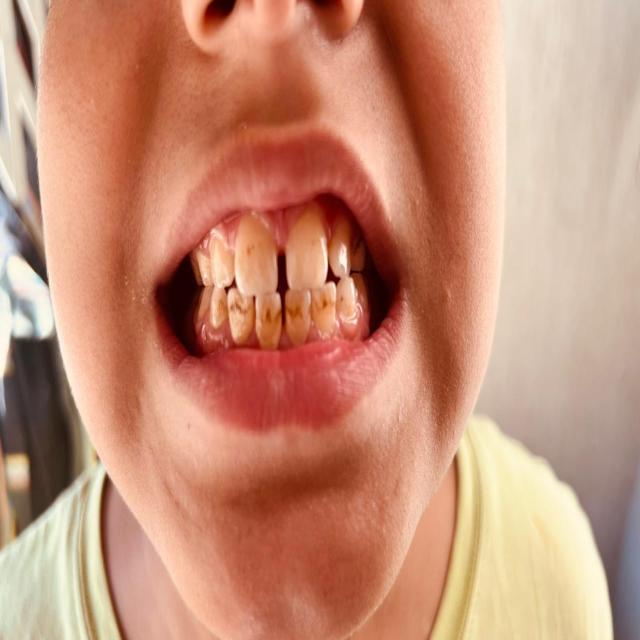tooth: (242, 210, 274, 292), (286, 222, 325, 284), (289, 287, 311, 337), (319, 289, 339, 337), (232, 291, 250, 337), (214, 235, 230, 281), (336, 234, 352, 276), (342, 277, 356, 319), (199, 250, 213, 290), (210, 289, 223, 328)
